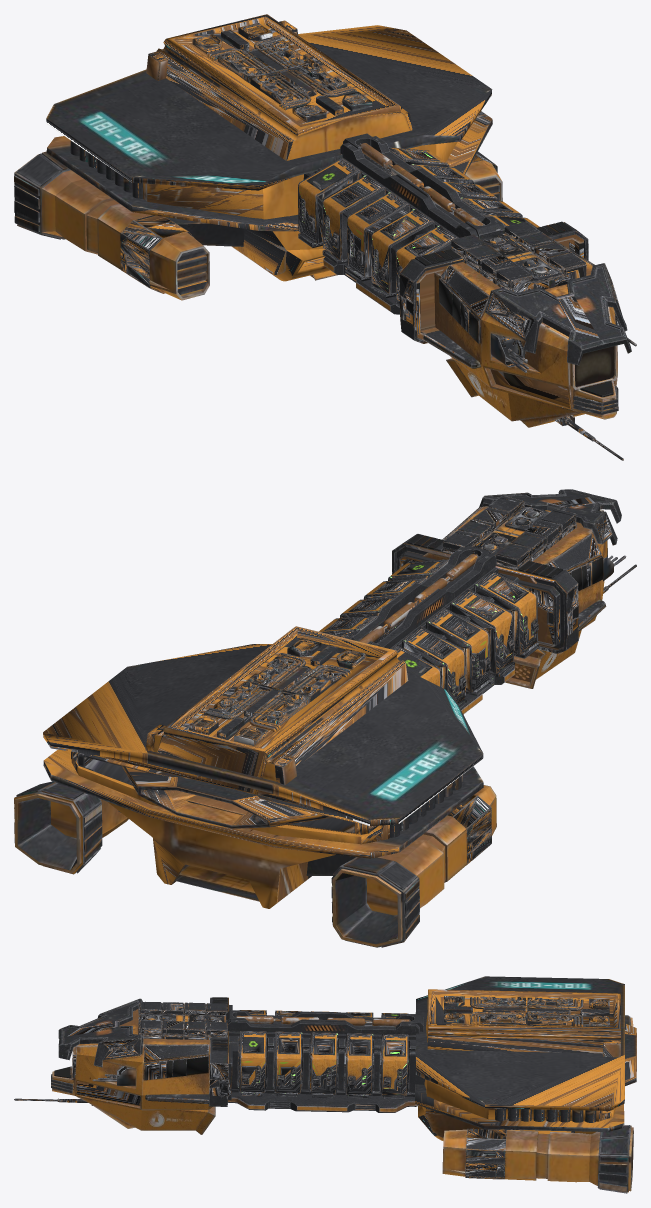
File: cruiser2.glb
3 renders of one model, top to bottom at view 1: azimuth 30°, elevation 25°; view 2: azimuth 150°, elevation 25°; view 3: azimuth 270°, elevation 25°, orthographic. The views are drawn at different scales.
Parts seen in each view (by area): view 1: cruiser2_1, cruiser2_0; view 2: cruiser2_1, cruiser2_0; view 3: cruiser2_1, cruiser2_0.
Part boxes in pixels (left/top/right/bottom): cruiser2_1: left=14, top=14, right=636, bottom=460; cruiser2_0: left=298, top=133, right=539, bottom=314; cruiser2_1: left=14, top=489, right=636, bottom=947; cruiser2_0: left=319, top=546, right=539, bottom=714; cruiser2_1: left=14, top=976, right=636, bottom=1193; cruiser2_0: left=226, top=1010, right=424, bottom=1112.
Bounding box in the file's own units: 0.5354 × 0.2298 × 1.
Materials: 2 (2 with a texture image).
